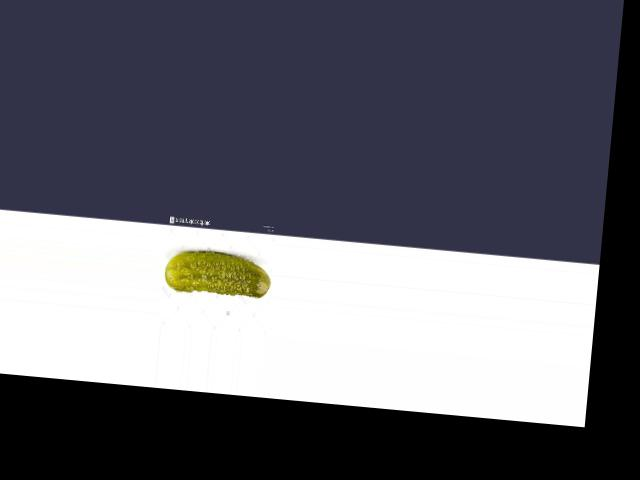cucumber: (163, 247, 274, 299)
